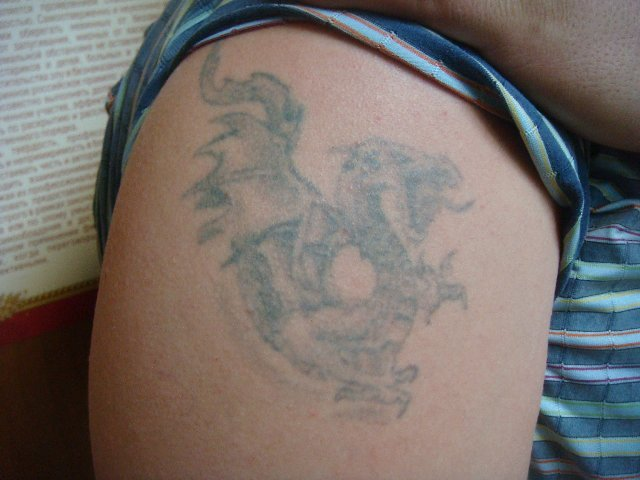tatu6_drakon: (186, 49, 486, 437)
